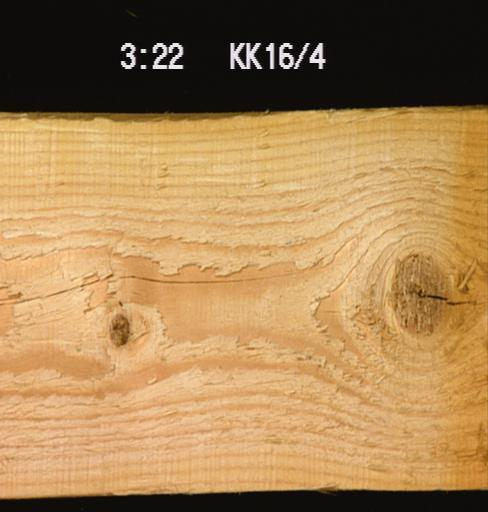sound_knot: (386, 247, 486, 343), (104, 310, 131, 348)
split: (0, 249, 340, 308)
wave: (0, 108, 384, 133)
